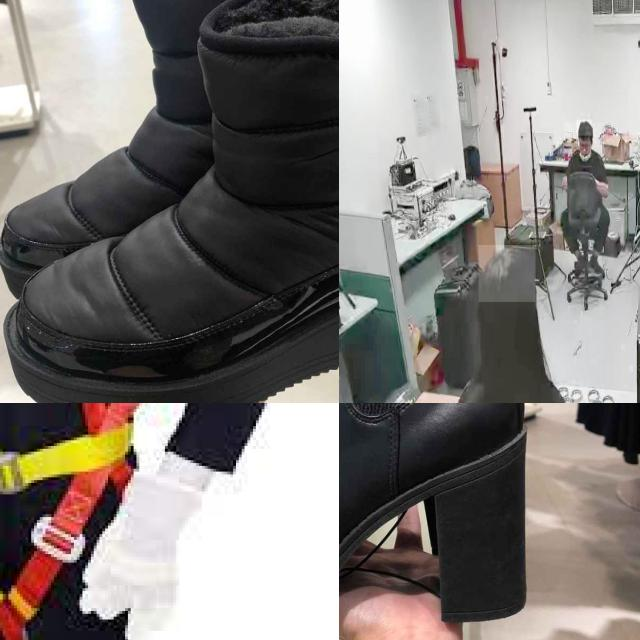Harness: (0, 403, 143, 624)
Sandals: (0, 0, 339, 403), (339, 403, 563, 640)
face_nomask: (578, 140, 592, 158)
head_nohelmet: (478, 245, 536, 303), (576, 120, 592, 136)
person: (444, 244, 603, 403), (564, 122, 614, 270)
shoes: (571, 252, 590, 280), (586, 252, 604, 278)
